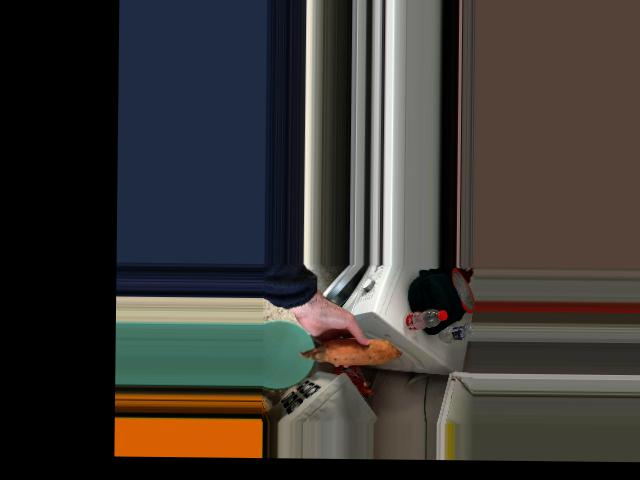sweet_potato: (312, 340, 398, 364)
